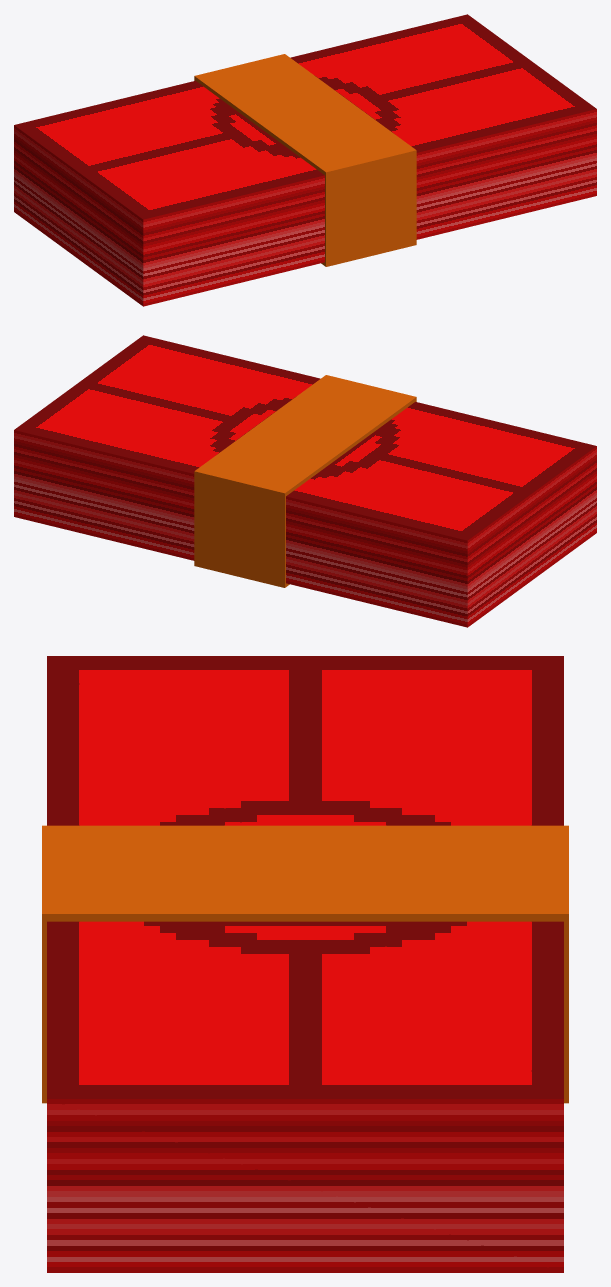
The model's file is SingleMoneyStack.fbx.
3 renders of one model, top to bottom at view 1: azimuth 30°, elevation 25°; view 2: azimuth 150°, elevation 25°; view 3: azimuth 270°, elevation 25°, orthographic. The views are drawn at different scales.
Visible parts, largest first — view 1: Moneystack; view 2: Moneystack; view 3: Moneystack.
Boxes of the visible parts, <box> form: Moneystack: <box>14,14,596,306</box>; Moneystack: <box>14,335,596,627</box>; Moneystack: <box>42,656,568,1272</box>.
Bounding box in the file's own units: 39.4 × 7.86 × 19.82.
Materials: 2 (1 with a texture image).
